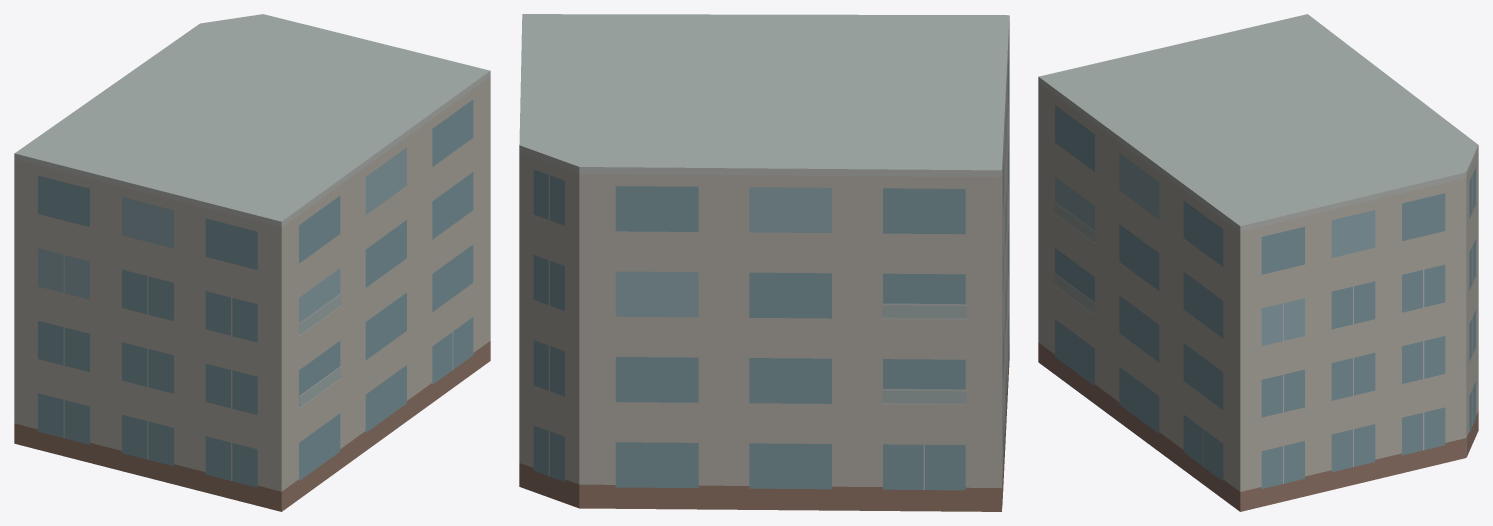
File: survey-upis-32713709.glb
3 views of the same model, side by side, from view 1: azimuth 30°, elevation 25°; view 2: azimuth 150°, elevation 25°; view 3: azimuth 270°, elevation 25° (orthographic). The views are drawn at different scales.
Parts seen in each view (by area): view 1: survey-upis-32713709.tmp; view 2: survey-upis-32713709.tmp; view 3: survey-upis-32713709.tmp.
Boxes of the visible parts, x1,y1,x2,y2 form: survey-upis-32713709.tmp: (14,14,490,511); survey-upis-32713709.tmp: (519,14,1009,511); survey-upis-32713709.tmp: (1038,14,1478,511).
Size of the model in its own units: 19.45 by 12.2 by 17.04.
